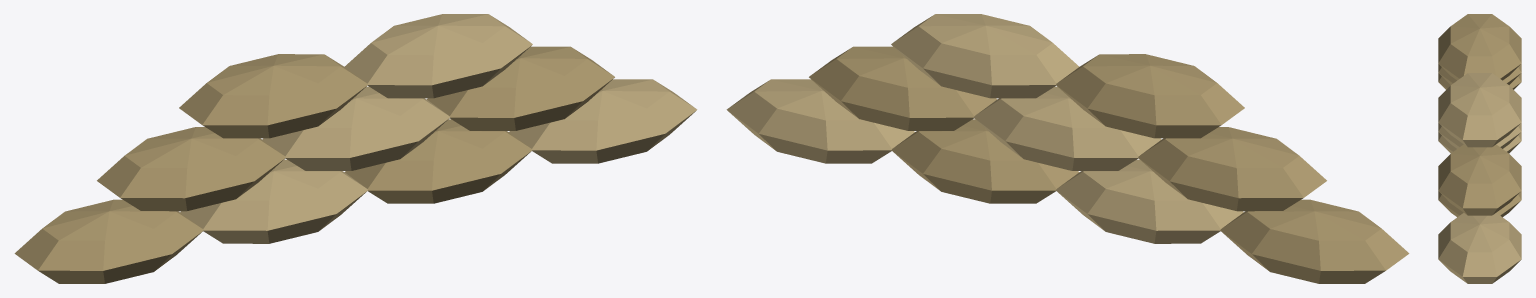
The model's file is sandbag_wall.glb.
The picture shows the model from 3 angles, left to right: view 1: azimuth 30°, elevation 25°; view 2: azimuth 150°, elevation 25°; view 3: azimuth 270°, elevation 25°; orthographic projection. The views are drawn at different scales.
Parts seen in each view (by area): view 1: sandbag_wall; view 2: sandbag_wall; view 3: sandbag_wall.
Part boxes in pixels (x1,y1,x2,y2): sandbag_wall: (14,14,697,283); sandbag_wall: (726,14,1409,283); sandbag_wall: (1438,14,1521,283).
Bounding box in the file's own units: 2.49 × 0.6 × 0.3696.
